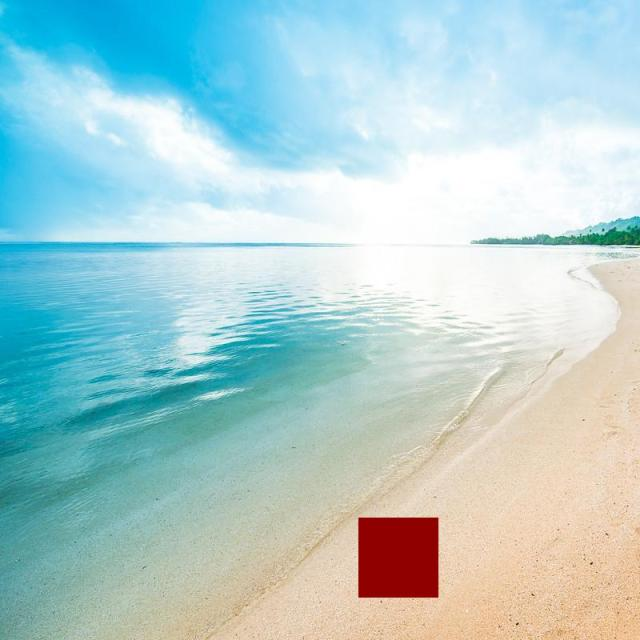RedSquare: (352, 510, 443, 600)
